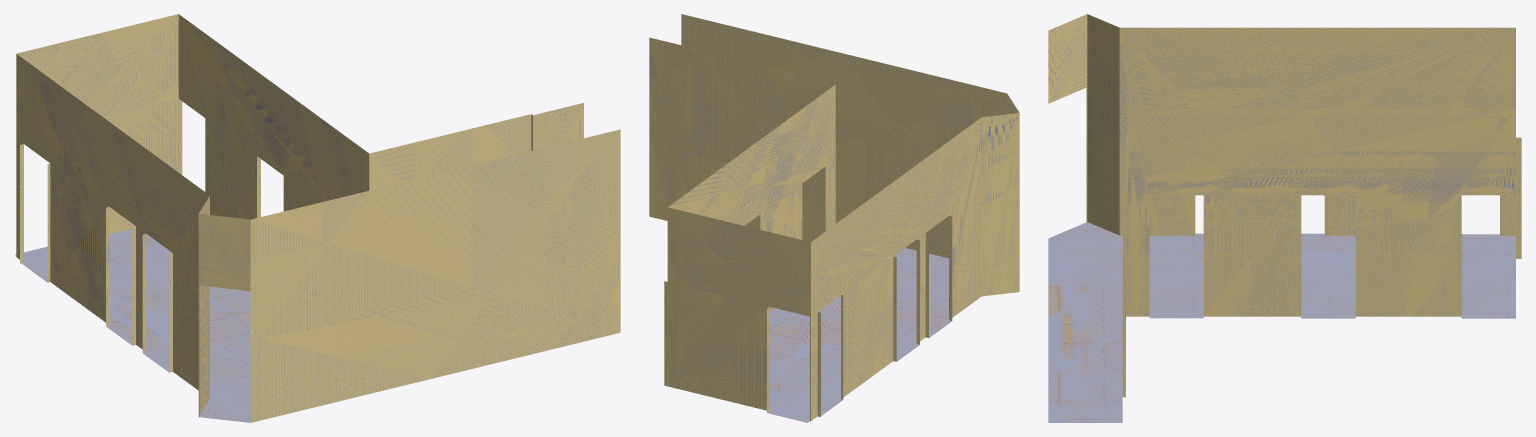
The model's file is COM040.obj.
The picture shows the model from 3 angles, left to right: view 1: azimuth 30°, elevation 25°; view 2: azimuth 150°, elevation 25°; view 3: azimuth 270°, elevation 25°; orthographic projection. The views are drawn at different scales.
Visible parts, largest first — view 1: Mesh1 COM040 Model; view 2: Mesh1 COM040 Model; view 3: Mesh1 COM040 Model.
Part boxes in pixels (x1=…): Mesh1 COM040 Model: x1=15, y1=14, x2=620, y2=422; Mesh1 COM040 Model: x1=649, y1=14, x2=1019, y2=422; Mesh1 COM040 Model: x1=1048, y1=14, x2=1521, y2=422.
Size of the model in its own units: 7.46 by 3.6 by 7.43.
Materials: 3 (1 with a texture image).
